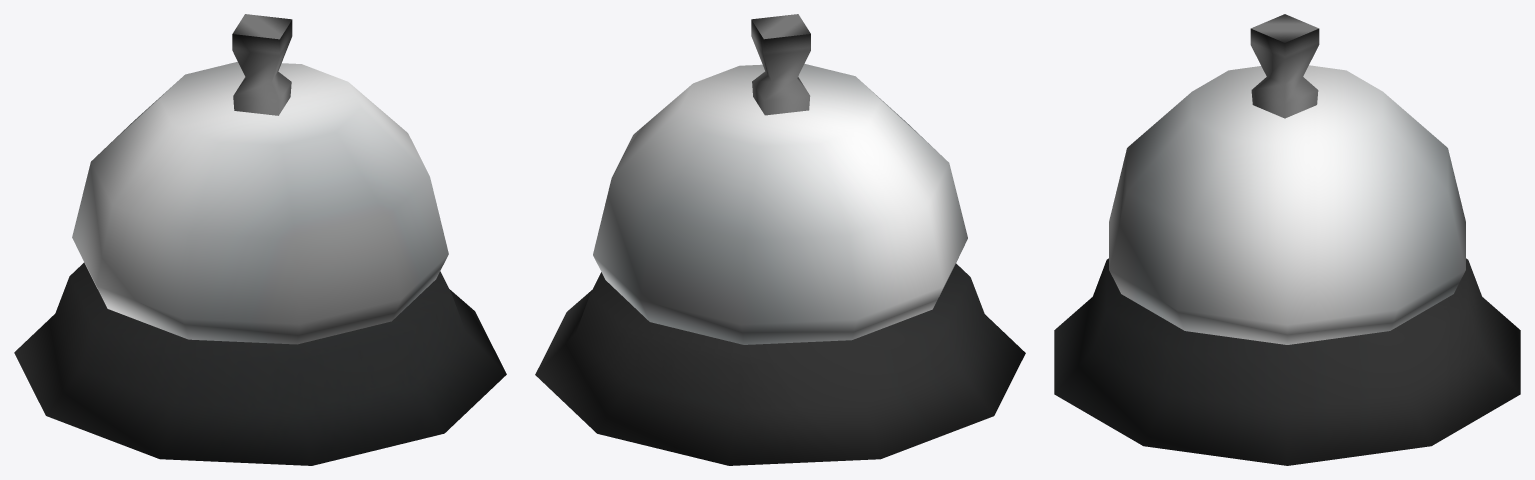
The model's file is Counter_Bell.FBX.
The picture shows the model from 3 angles, left to right: view 1: azimuth 30°, elevation 25°; view 2: azimuth 150°, elevation 25°; view 3: azimuth 270°, elevation 25°; orthographic projection.
Parts seen in each view (by area): view 1: Counter_Bell, Counter_Bell_2; view 2: Counter_Bell, Counter_Bell_2; view 3: Counter_Bell, Counter_Bell_2.
Boxes of the visible parts, left/top/right/bottom form: Counter_Bell: left=14, top=61, right=506, bottom=465; Counter_Bell_2: left=232, top=14, right=292, bottom=115; Counter_Bell: left=535, top=63, right=1025, bottom=465; Counter_Bell_2: left=751, top=14, right=810, bottom=115; Counter_Bell: left=1054, top=65, right=1520, bottom=465; Counter_Bell_2: left=1250, top=14, right=1319, bottom=118.
Bounding box in the file's own units: 57.03 × 42.88 × 54.24.
